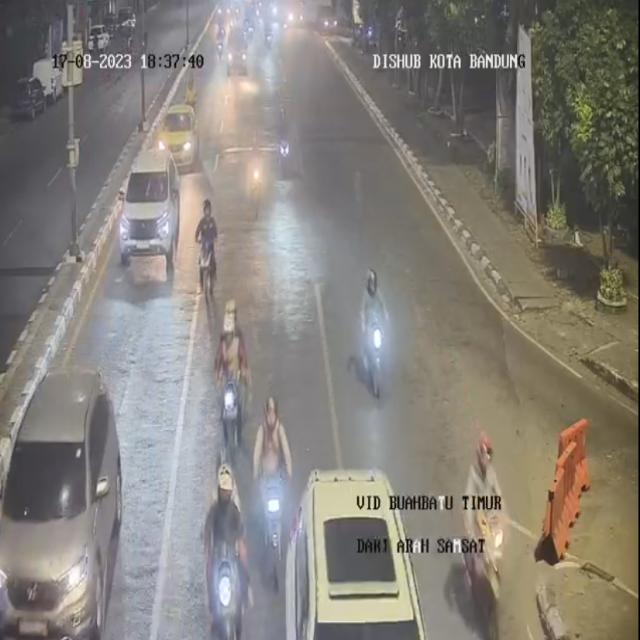cars: (0, 361, 128, 640), (275, 458, 429, 637), (121, 146, 181, 268), (162, 100, 199, 178), (229, 29, 253, 78)
motorcycle: (446, 428, 518, 640), (199, 467, 250, 640), (254, 390, 292, 574), (215, 305, 255, 451), (354, 263, 394, 403), (194, 197, 220, 305), (272, 110, 296, 180)
